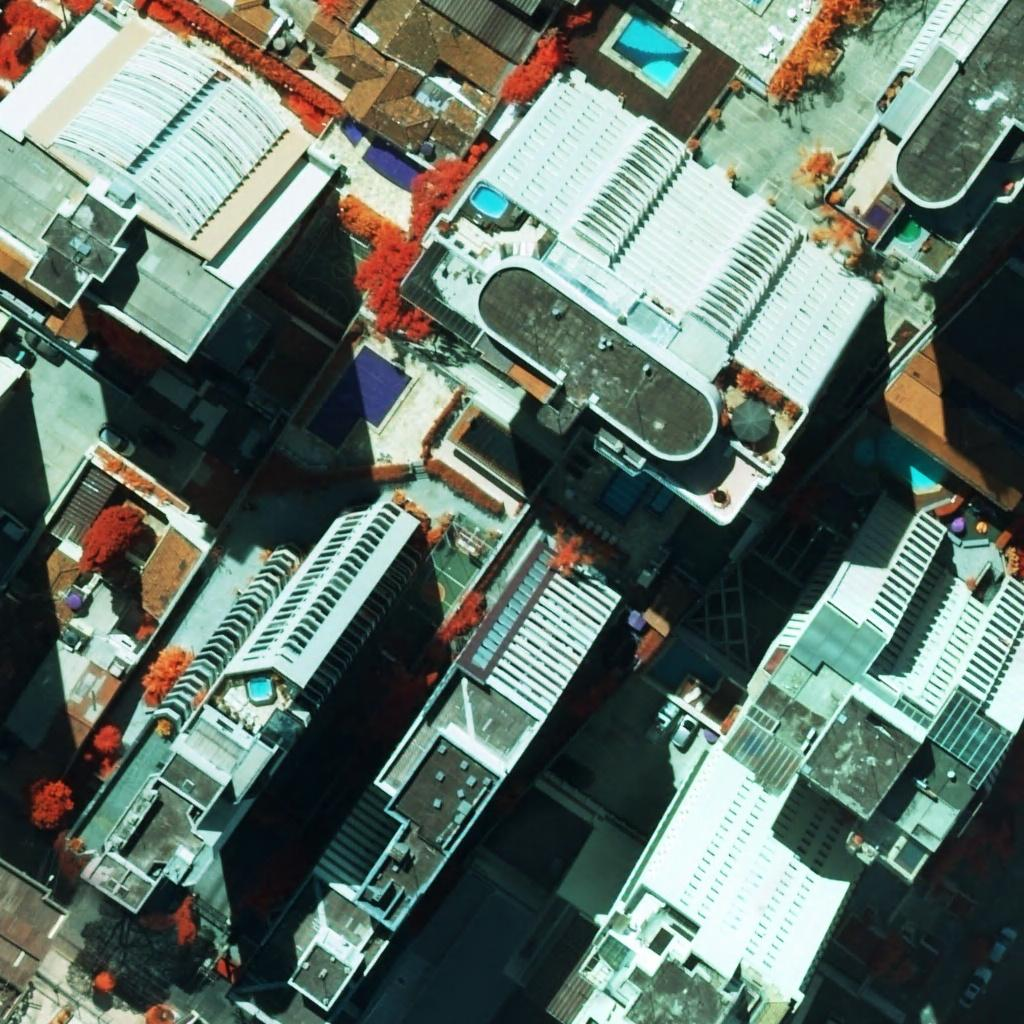pool: (306, 345, 412, 450), (340, 117, 427, 193), (852, 431, 948, 492), (612, 15, 688, 88), (470, 185, 508, 218), (250, 678, 271, 700)
